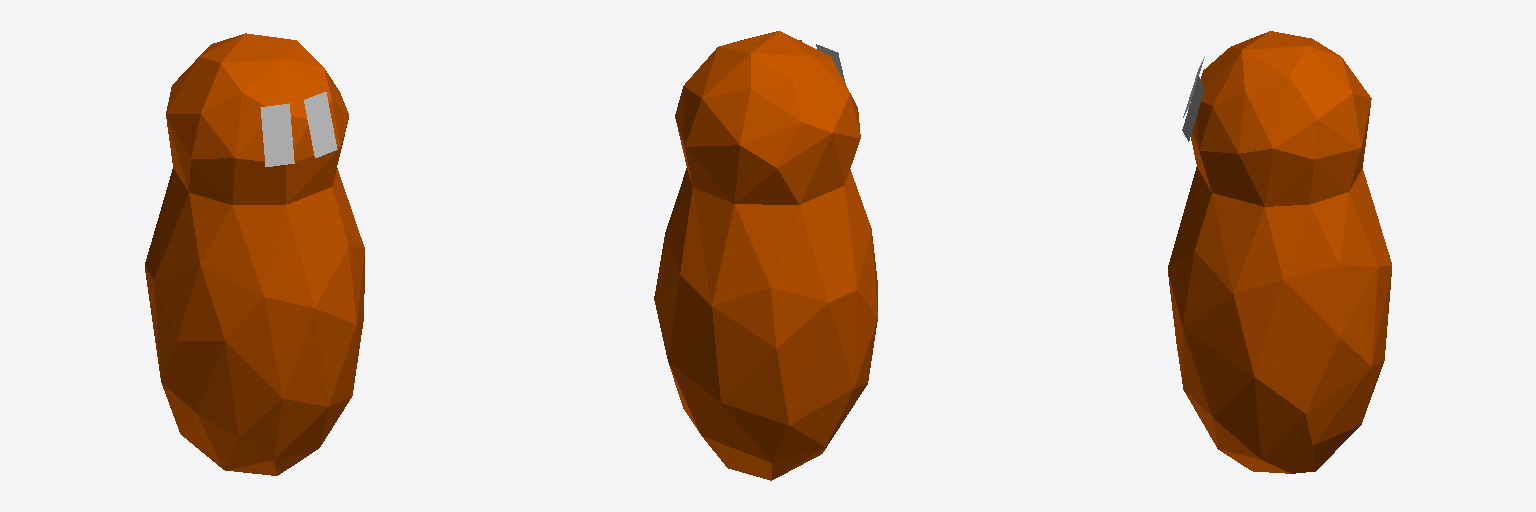
Rendered from leafy.lod2.obj.
3 renders of one model, left to right at view 1: azimuth 30°, elevation 25°; view 2: azimuth 150°, elevation 25°; view 3: azimuth 270°, elevation 25°, orthographic.
Visible parts, largest first — view 1: leafy; view 2: leafy; view 3: leafy.
Part boxes in pixels (x1,y1,x2,y2): leafy: (145,33,364,475); leafy: (654,31,877,480); leafy: (1168,31,1391,473).
Bounding box in the file's own units: 0.5701 × 1.21 × 0.5814.